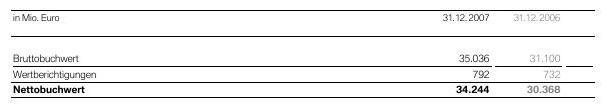table: (0, 0, 611, 110)
